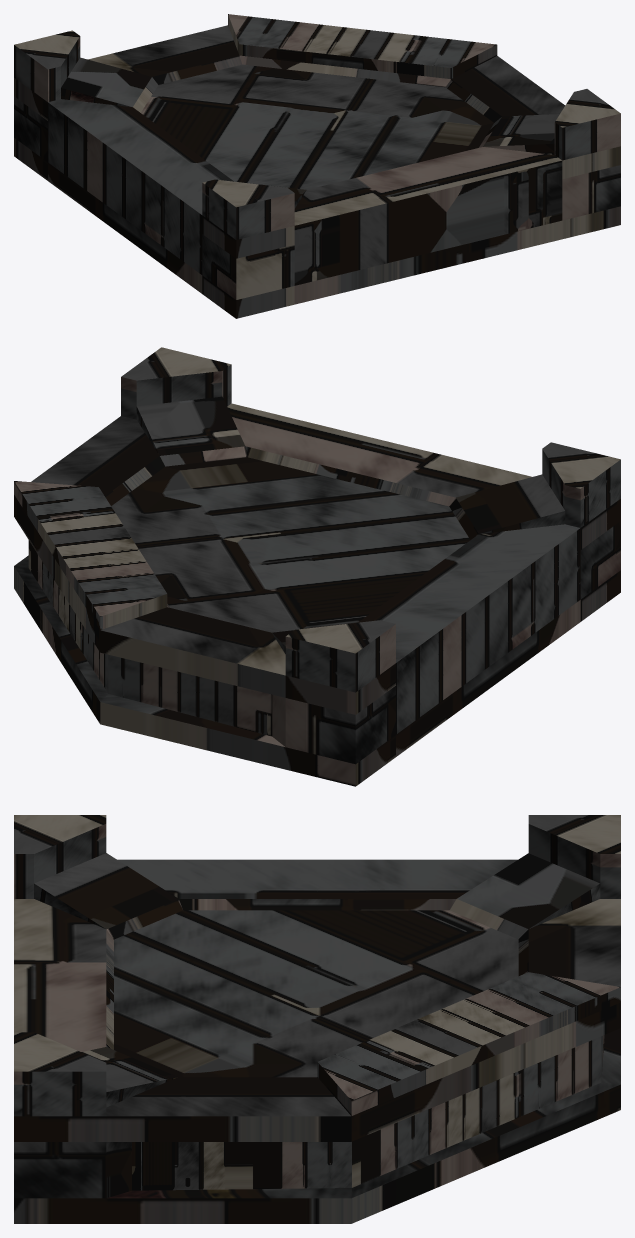
File: side_platform_triangle.dae
3 renders of one model, top to bottom at view 1: azimuth 30°, elevation 25°; view 2: azimuth 150°, elevation 25°; view 3: azimuth 270°, elevation 25°, orthographic. The views are drawn at different scales.
Parts seen in each view (by area): view 1: Side Platform; view 2: Side Platform; view 3: Side Platform.
Boxes of the visible parts, x1,y1,x2,y2 form: Side Platform: [14, 14, 620, 318]; Side Platform: [14, 347, 620, 786]; Side Platform: [14, 815, 620, 1223].
Size of the model in its own units: 200 by 200 by 55.39.
